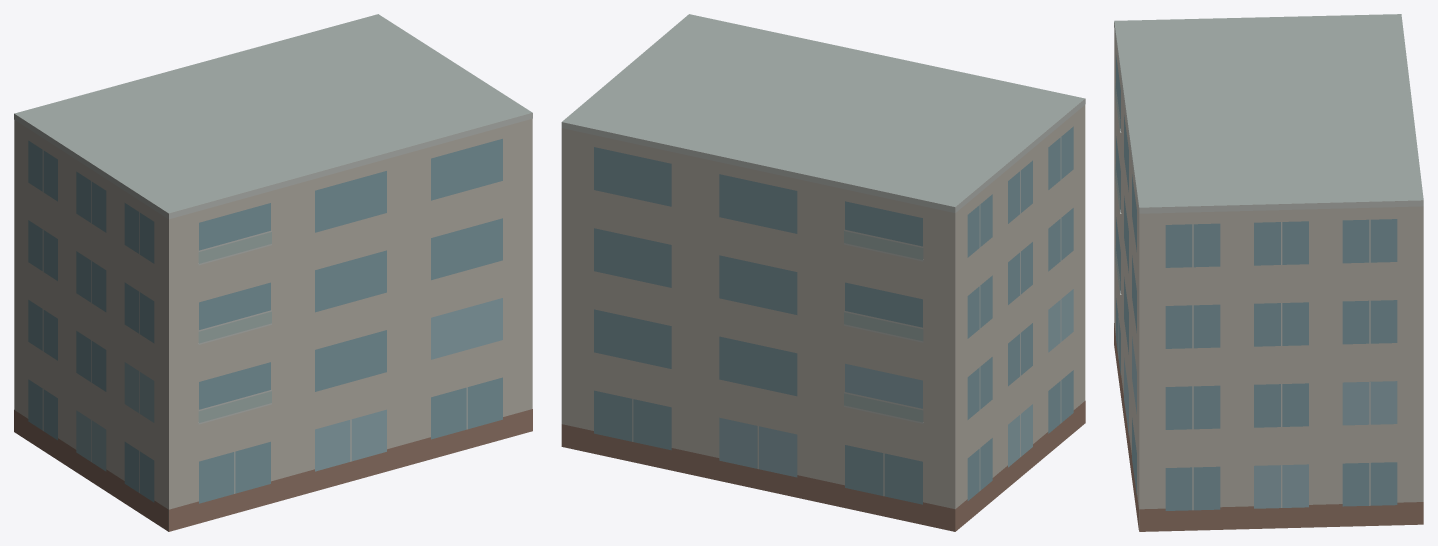
File: survey-upis-32921145.glb
The picture shows the model from 3 angles, left to right: view 1: azimuth 30°, elevation 25°; view 2: azimuth 150°, elevation 25°; view 3: azimuth 270°, elevation 25°; orthographic projection.
Visible parts, largest first — view 1: survey-upis-32921145.tmp; view 2: survey-upis-32921145.tmp; view 3: survey-upis-32921145.tmp.
Part boxes in pixels (bbox=[...]): survey-upis-32921145.tmp: bbox=[14, 14, 532, 531]; survey-upis-32921145.tmp: bbox=[561, 14, 1085, 531]; survey-upis-32921145.tmp: bbox=[1114, 14, 1423, 531].
Size of the model in its own units: 16.8 by 13.1 by 11.35.
